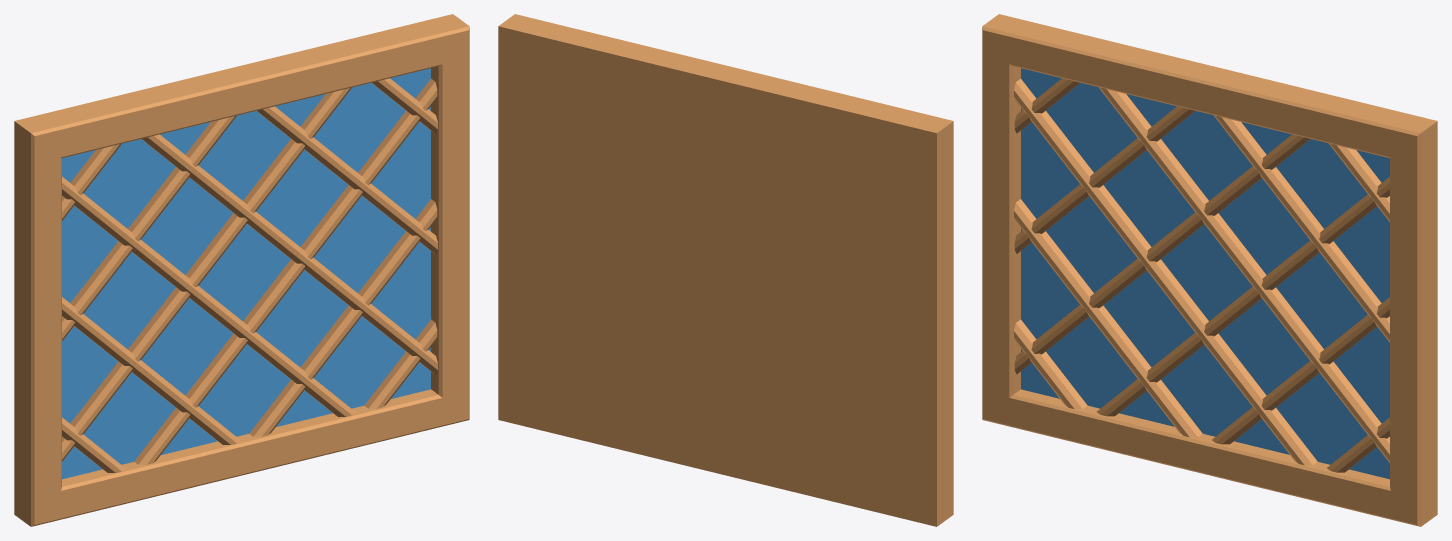
Rendered from Window_large.fbx.
The picture shows the model from 3 angles, left to right: view 1: azimuth 30°, elevation 25°; view 2: azimuth 150°, elevation 25°; view 3: azimuth 330°, elevation 25°; orthographic projection.
Parts seen in each view (by area): view 1: Window_large_low; view 2: Window_large_low; view 3: Window_large_low.
Boxes of the visible parts, x1,y1,x2,y2 form: Window_large_low: (14, 14, 469, 526); Window_large_low: (498, 14, 953, 526); Window_large_low: (982, 14, 1437, 526).
Size of the model in its own units: 279 by 240 by 20.
